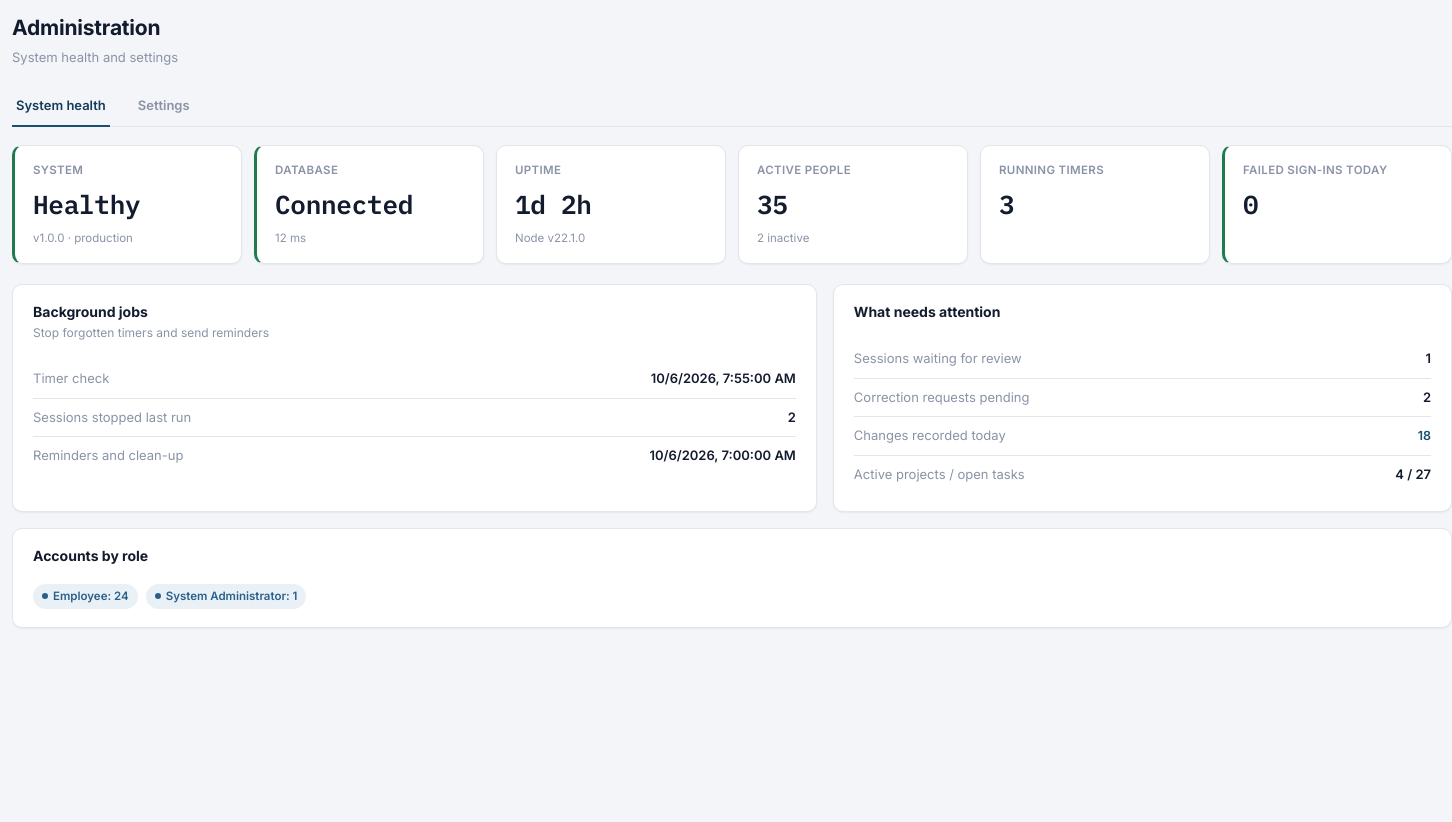
it: Administration: settings › cannot save until something changes, then saves only what changed
This screenshot has width=1452, height=822.
Check: the text "Healthy" is shown, box 33,187 -> 140,221
Step 1. Click the text "Settings" → (164, 105), box 138,97 -> 190,113
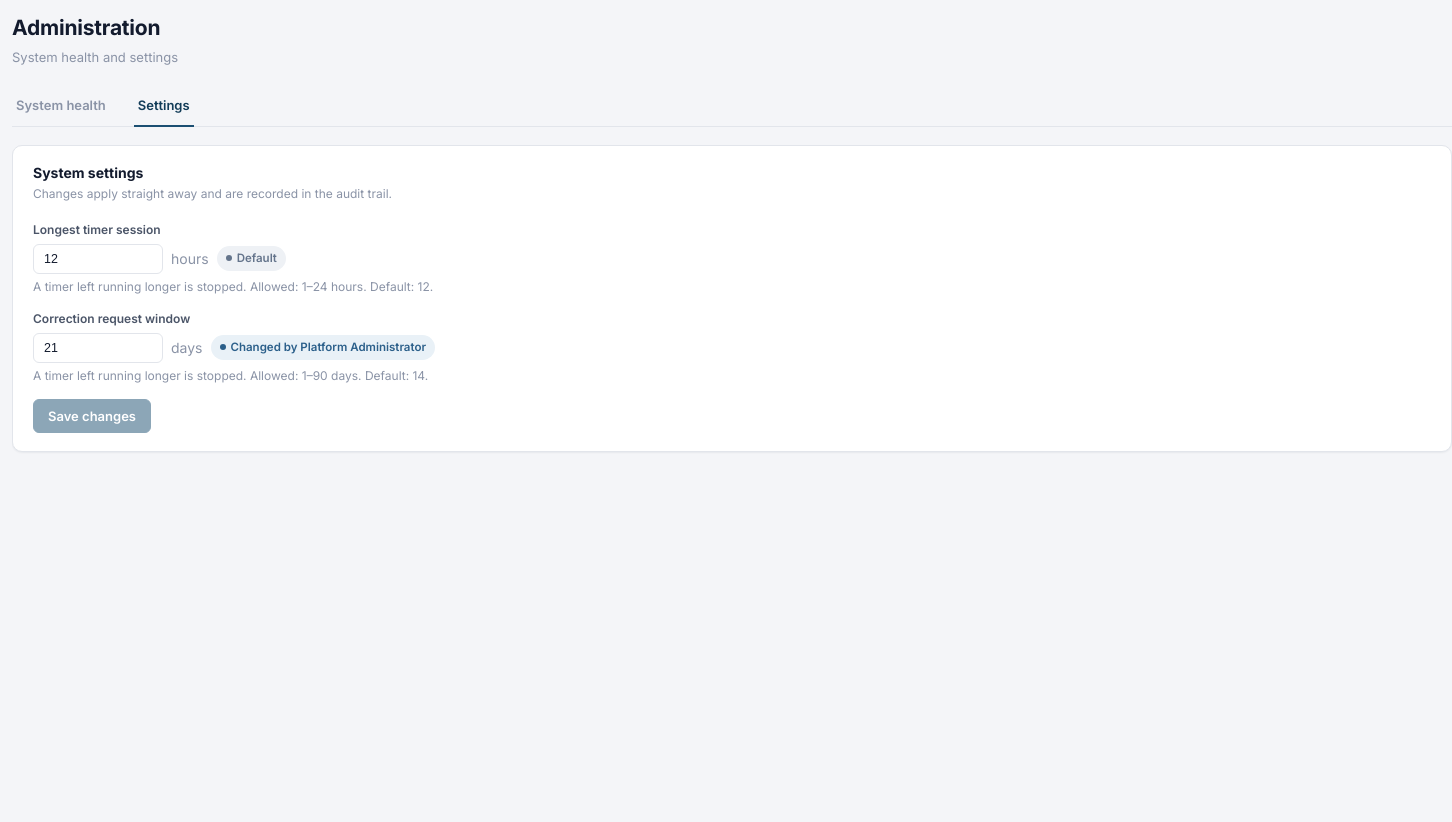
Check: the heading "System settings" is shown, box 33,164 -> 143,180
Check: the button "Save changes" is disabled, box 33,398 -> 151,432
Step 2. Replace the text in the number field named "Longest timer session" with "10" → (98, 258), box 33,244 -> 163,274
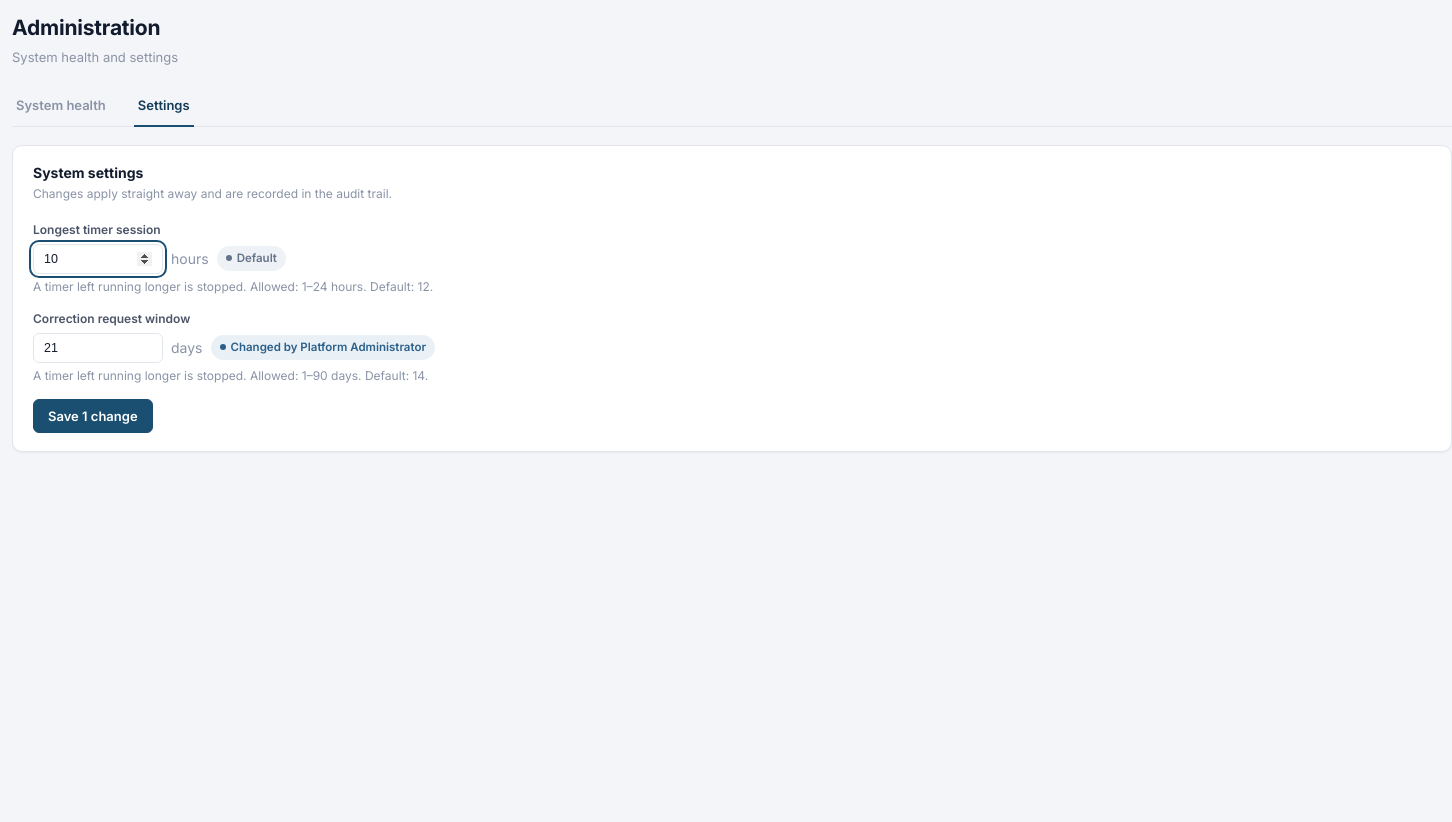
Check: the button "Save 1 change" is enabled
Step 3. Click the button "Save 1 change" → (93, 416), box 33,398 -> 153,432
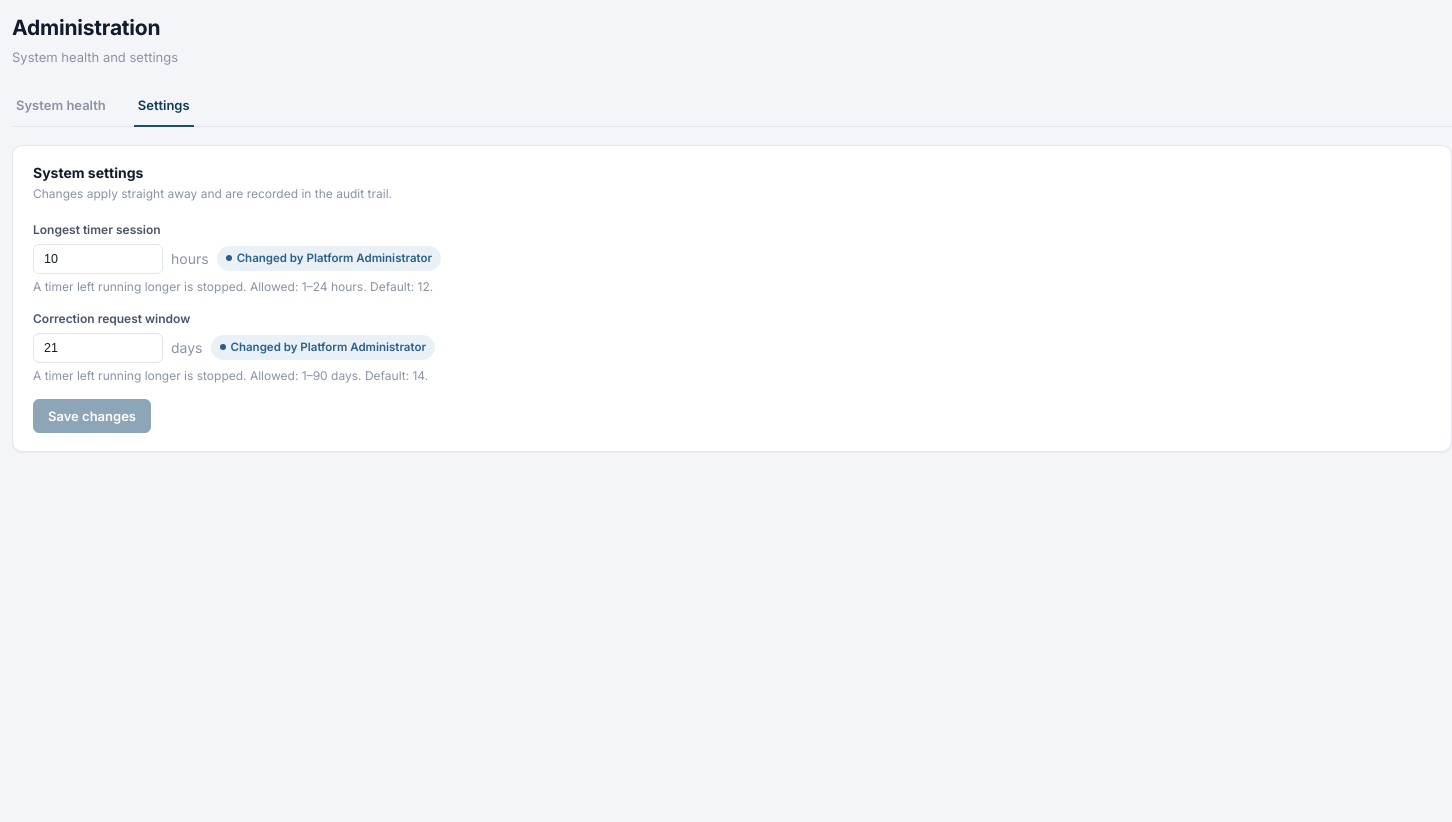
Check: the button "Save changes" is disabled, box 33,398 -> 151,432
